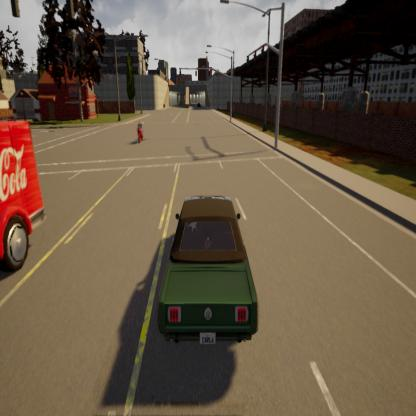Cars: (155, 178, 263, 378), (0, 108, 58, 282)
